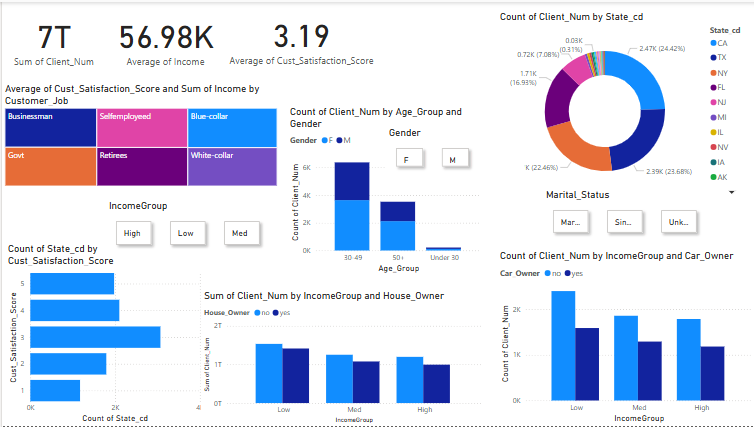

The page's visual inventory and layout, read from the dashboard file:
{"tool":"powerbi","page":{"name":"Page 1","canvas":[1280,720],"ordinal":0},"visuals":[{"type":"card","fields":{"Values":["Sum(credit_card_cust_detail_dash cust_detail.Client_Num)"]},"box":[0,0,176.8,124.1],"z":0},{"type":"card","fields":{"Values":["Avg(credit_card_cust_detail_dash cust_detail.Income)"]},"box":[176.8,0,202.3,124.1],"z":1000},{"type":"card","fields":{"Values":["Avg(credit_card_cust_detail_dash cust_detail.Cust_Satisfaction_Score)"]},"box":[379.1,6.8,260.1,107.1],"z":2000},{"type":"columnChart","fields":{"Series":["credit_card_cust_detail_dash cust_detail.Gender"],"Category":["credit_card_cust_detail_dash cust_detail.Age_Group"],"Y":["CountNonNull(credit_card_cust_detail_dash cust_detail.Client_Num)"]},"box":[484.5,176.8,334.9,289],"z":3000},{"type":"clusteredColumnChart","fields":{"Category":["credit_card_cust_detail_dash cust_detail.IncomeGroup"],"Series":["credit_card_cust_detail_dash cust_detail.Car_Owner"],"Y":["CountNonNull(credit_card_cust_detail_dash cust_detail.Client_Num)"]},"box":[841.4,421.6,438.6,299.2],"z":4000},{"type":"barChart","fields":{"Y":["CountNonNull(credit_card_cust_detail_dash cust_detail.State_cd)"],"Category":["credit_card_cust_detail_dash cust_detail.Cust_Satisfaction_Score"]},"box":[5.1,409.7,343.4,311.1],"z":5000},{"type":"donutChart","fields":{"Category":["credit_card_cust_detail_dash cust_detail.State_cd"],"Y":["Count(credit_card_cust_detail_dash cust_detail.Client_Num)"]},"box":[841.4,15.3,438.6,321.3],"z":6000},{"type":"advancedSlicerVisual","fields":{"Values":["credit_card_cust_detail_dash cust_detail.Gender"]},"box":[652.7,212.5,236.3,85],"z":7000},{"type":"advancedSlicerVisual","fields":{"Values":["credit_card_cust_detail_dash cust_detail.IncomeGroup"]},"box":[176.8,336.6,280.5,93.5],"z":8000},{"type":"advancedSlicerVisual","fields":{"Values":["credit_card_cust_detail_dash cust_detail.Marital_Status"]},"box":[919.6,317.9,280.5,91.8],"z":9000},{"type":"treemap","fields":{"Group":["credit_card_cust_detail_dash cust_detail.Customer_Job"],"Values":["Avg(credit_card_cust_detail_dash cust_detail.Cust_Satisfaction_Score)"]},"box":[0,137.7,472.6,180.2],"z":10000},{"type":"clusteredColumnChart","fields":{"Category":["credit_card_cust_detail_dash cust_detail.IncomeGroup"],"Series":["credit_card_cust_detail_dash cust_detail.House_Owner"],"Y":["Sum(credit_card_cust_detail_dash cust_detail.Client_Num)"]},"box":[338.3,489.6,481.1,231.2],"z":11000}]}

Visuals, with their boxes in screenshot pixels (x1, y1, x2, y2), scaled from the page's 1280x720 canvas onto the 754x427 screenshot:
card - Sum(credit_card_cust_detail_dash cust_detail.Client_Num): [0, 0, 104, 74]
card - Avg(credit_card_cust_detail_dash cust_detail.Income): [104, 0, 223, 74]
card - Avg(credit_card_cust_detail_dash cust_detail.Cust_Satisfaction_Score): [223, 4, 377, 68]
columnChart - credit_card_cust_detail_dash cust_detail.Gender x credit_card_cust_detail_dash cust_detail.Age_Group: [285, 105, 483, 276]
clusteredColumnChart - credit_card_cust_detail_dash cust_detail.IncomeGroup x credit_card_cust_detail_dash cust_detail.Car_Owner: [496, 250, 753, 426]
barChart - CountNonNull(credit_card_cust_detail_dash cust_detail.State_cd) x credit_card_cust_detail_dash cust_detail.Cust_Satisfaction_Score: [3, 243, 205, 426]
donutChart - credit_card_cust_detail_dash cust_detail.State_cd x Count(credit_card_cust_detail_dash cust_detail.Client_Num): [496, 9, 753, 200]
advancedSlicerVisual - credit_card_cust_detail_dash cust_detail.Gender: [384, 126, 524, 176]
advancedSlicerVisual - credit_card_cust_detail_dash cust_detail.IncomeGroup: [104, 200, 269, 255]
advancedSlicerVisual - credit_card_cust_detail_dash cust_detail.Marital_Status: [542, 189, 707, 243]
treemap - credit_card_cust_detail_dash cust_detail.Customer_Job x Avg(credit_card_cust_detail_dash cust_detail.Cust_Satisfaction_Score): [0, 82, 278, 189]
clusteredColumnChart - credit_card_cust_detail_dash cust_detail.IncomeGroup x credit_card_cust_detail_dash cust_detail.House_Owner: [199, 290, 483, 426]
